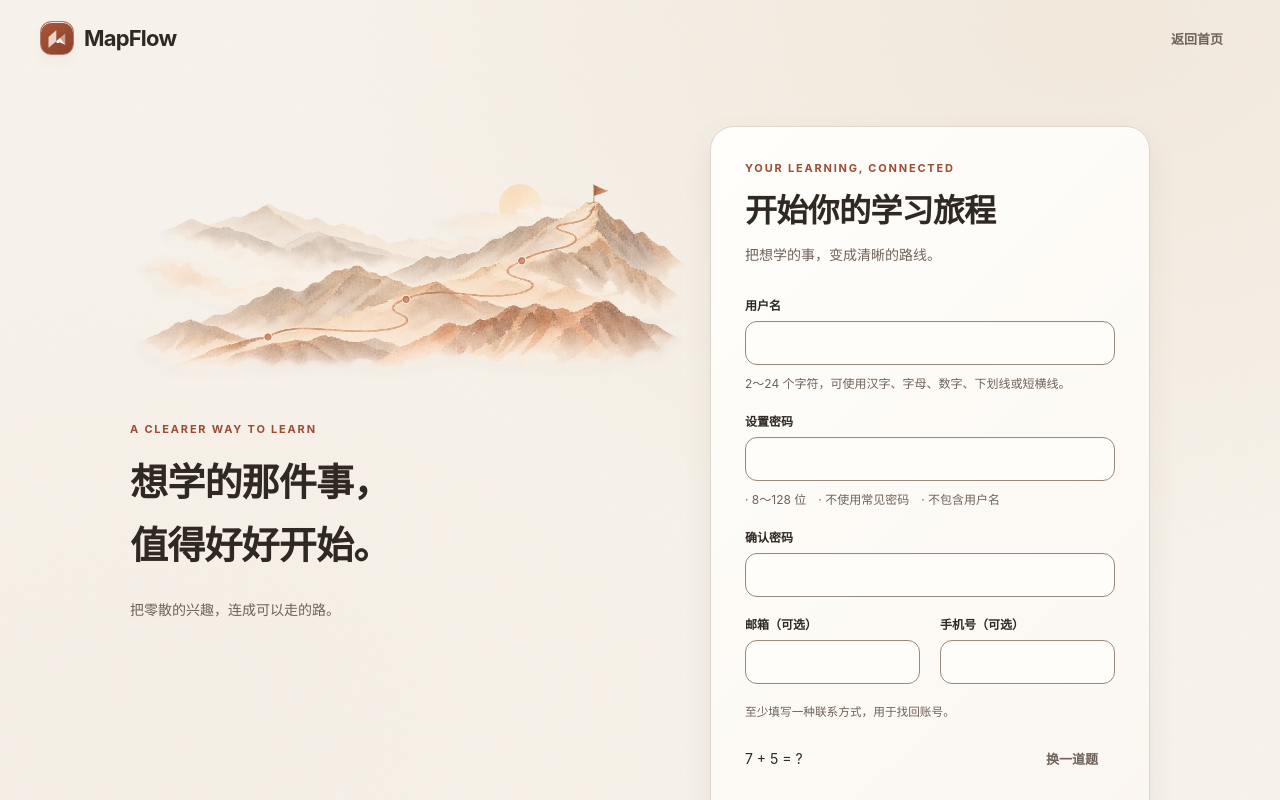
Scenario: submits the server registration question and refreshes it after a rejection
Expected: the text "7 + 5 = ?" is shown, [745,750,803,767]
In the field labelled "用户名": (930, 343) [745,321,1115,365], type "NewLearner"
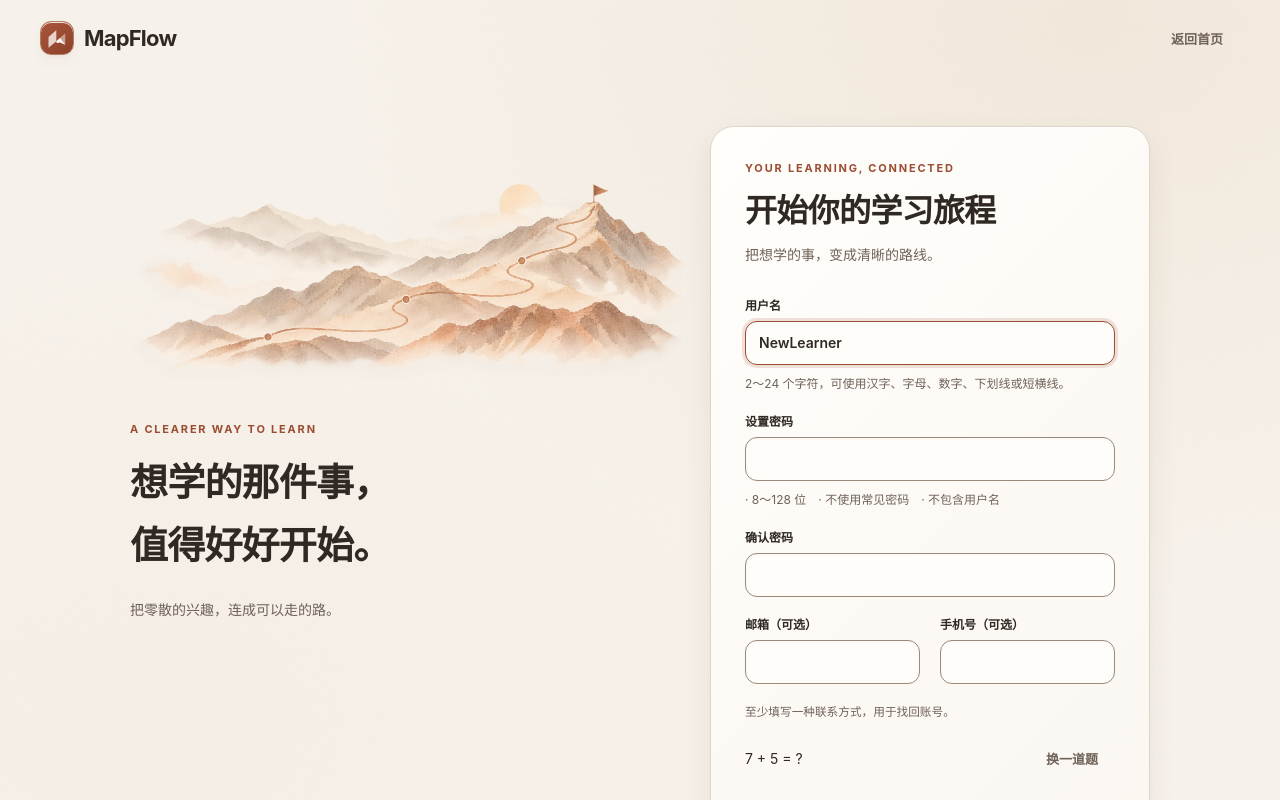
In the password field labelled "设置密码": (930, 459) [745,437,1115,481], type "Secure!River987"
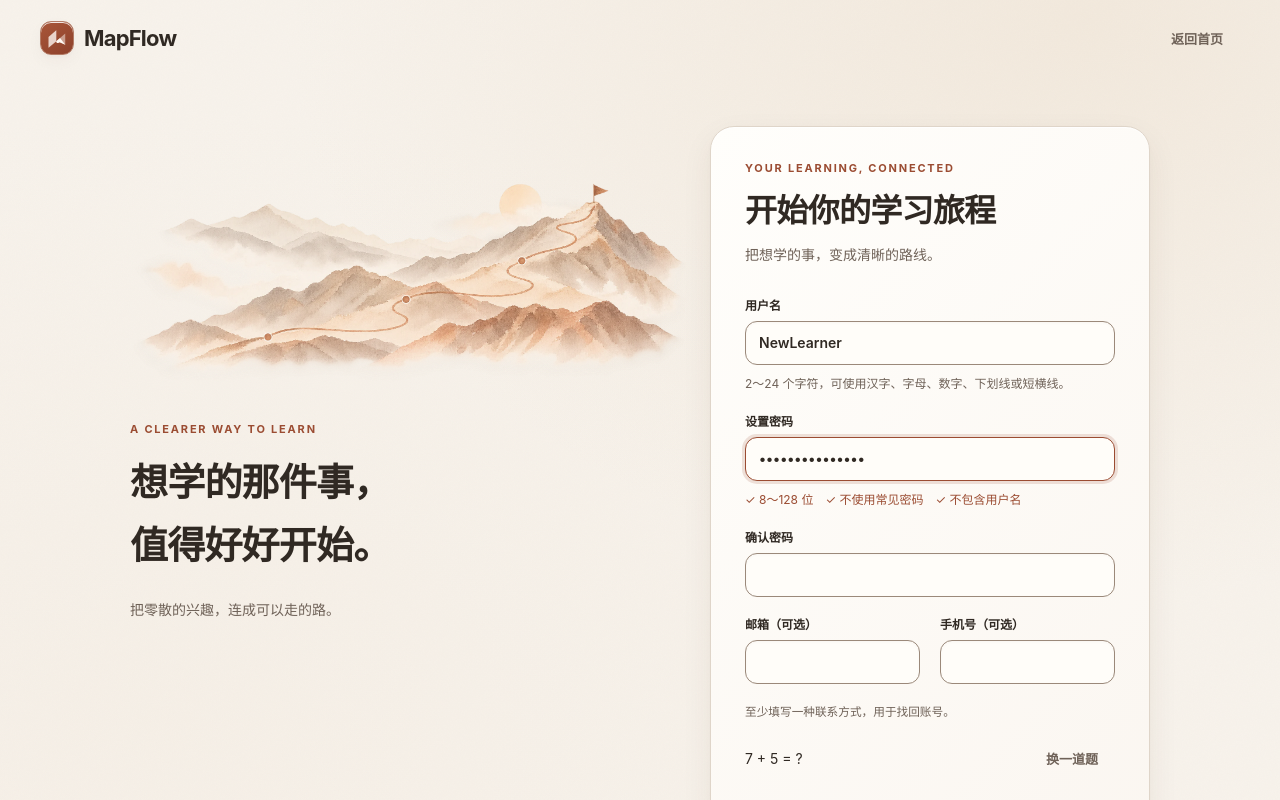
In the password field labelled "确认密码": (930, 575) [745,553,1115,597], type "Secure!River987"
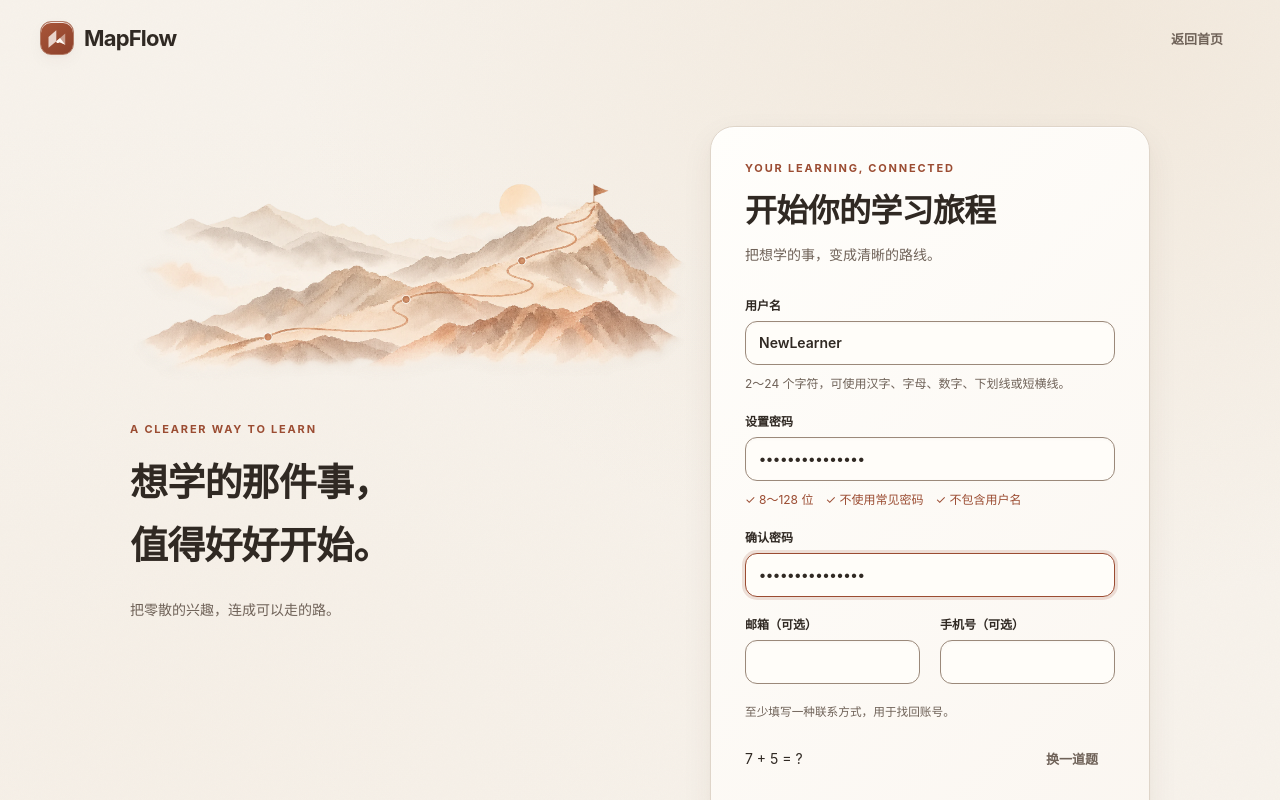
In the field labelled "邮箱（可选）": (832, 662) [745,640,920,684], type "learner@example.test"
(page scrolled)
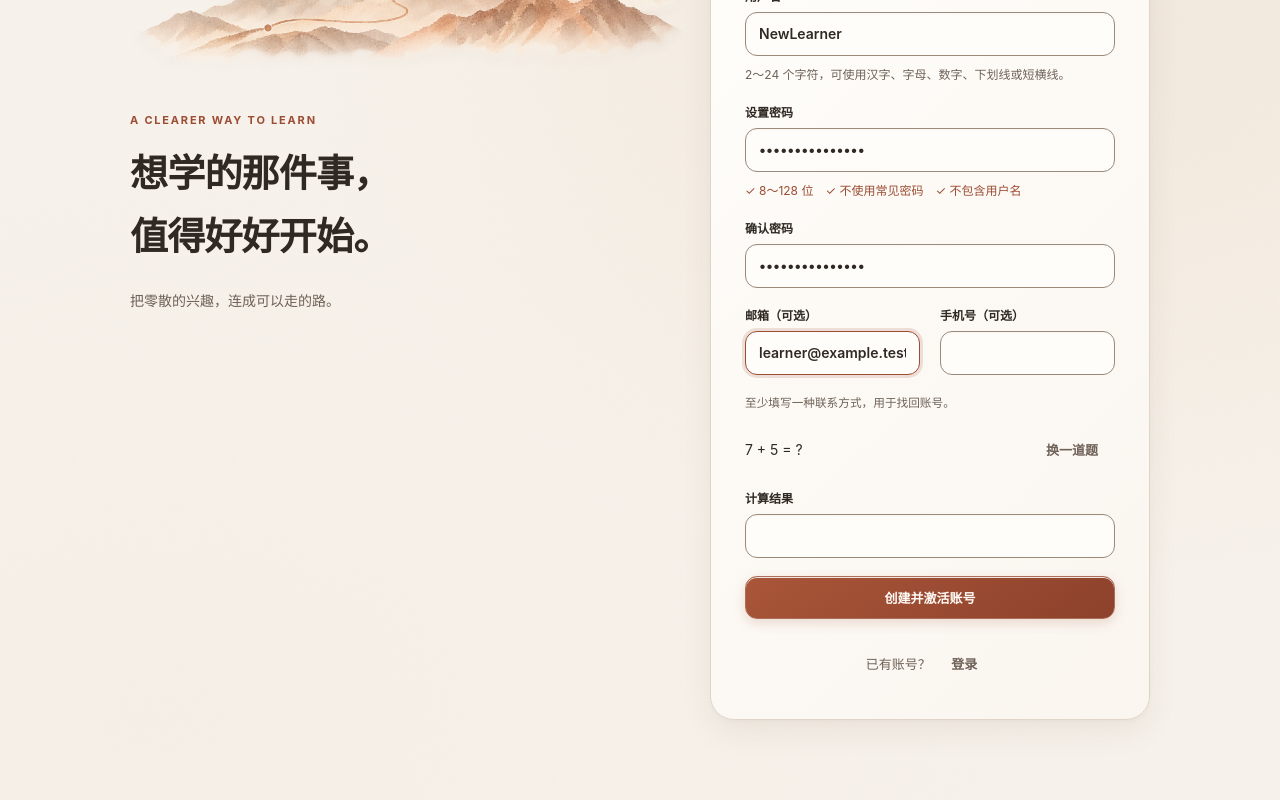
In the field labelled "计算结果": (930, 536) [745,514,1115,558], type "12"
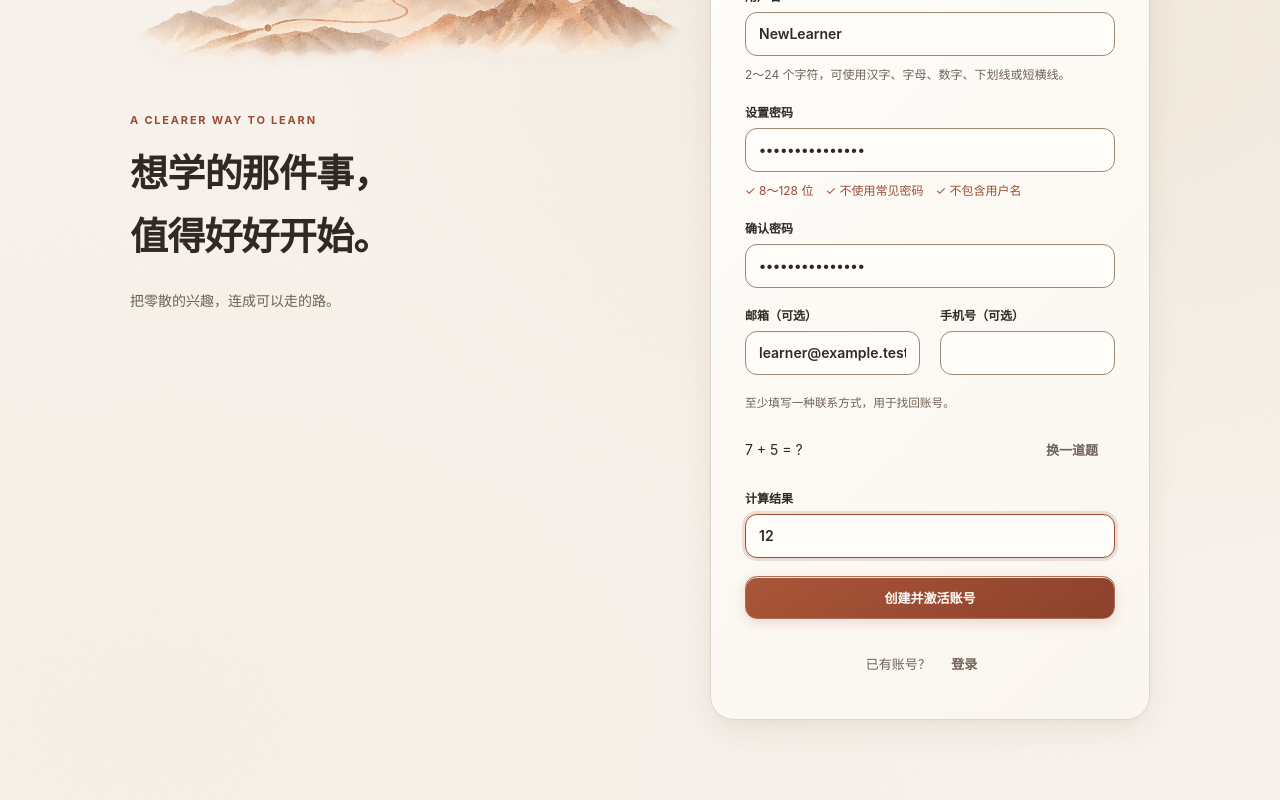
Click the button "创建并激活账号": (930, 597) [745,576,1115,619]
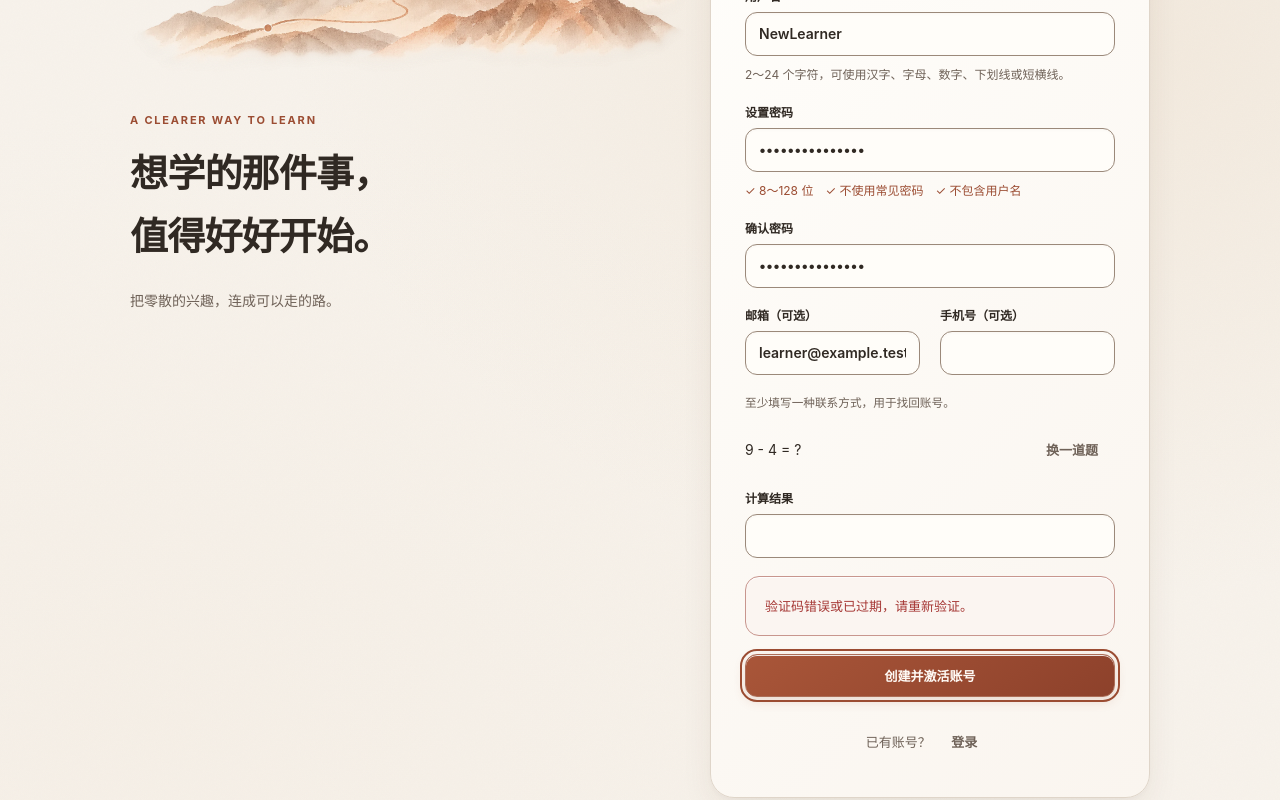
Now the text "9 - 4 = ?" is shown, box [745,441,801,458]
Now the field labelled "计算结果" is empty, box [745,514,1115,558]
